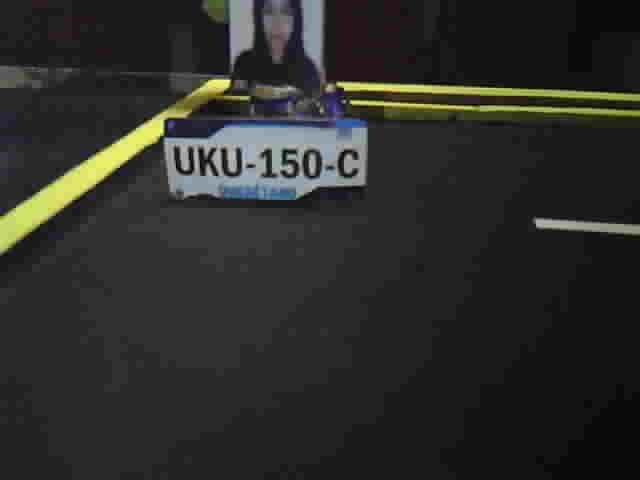PLACA: (162, 116, 370, 209)
ROSTRO: (230, 1, 325, 86)
